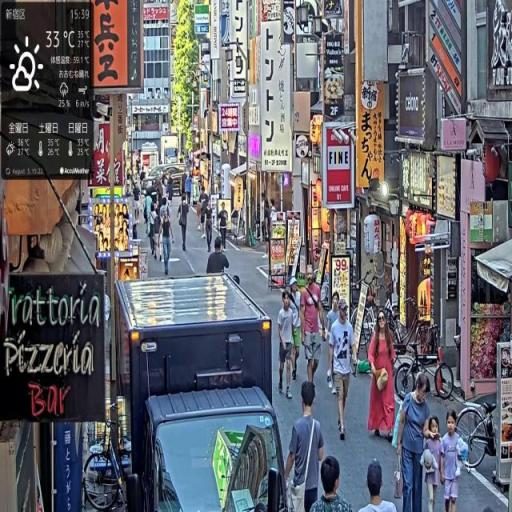person: (285, 381, 328, 512), (395, 373, 433, 512), (328, 299, 360, 446), (367, 309, 398, 444), (301, 268, 328, 391), (441, 408, 468, 512), (307, 454, 353, 512), (420, 415, 444, 512), (278, 291, 299, 401), (207, 235, 231, 324), (362, 462, 398, 512), (160, 204, 175, 279), (178, 192, 191, 253), (218, 203, 231, 255), (205, 199, 216, 253)
